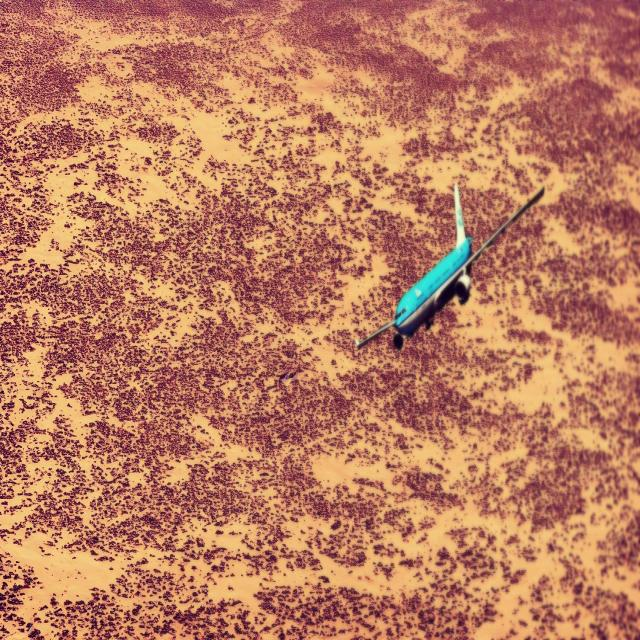airplane: (354, 181, 545, 352)
